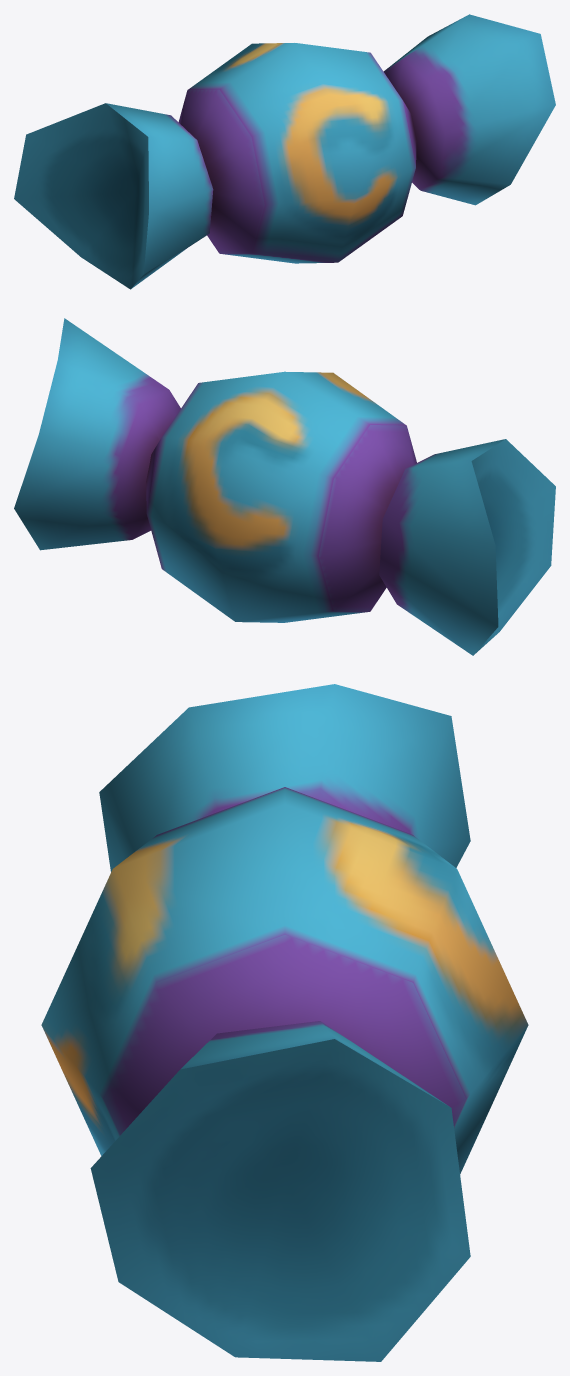
Rendered from candy02.fbx.
3 renders of one model, top to bottom at view 1: azimuth 30°, elevation 25°; view 2: azimuth 150°, elevation 25°; view 3: azimuth 270°, elevation 25°, orthographic. The views are drawn at different scales.
Parts seen in each view (by area): view 1: candy02; view 2: candy02; view 3: candy02.
Part boxes in pixels (x1,y1,x2,y2): candy02: (14,14,555,289); candy02: (14,318,555,655); candy02: (41,684,528,1361).
Bounding box in the file's own units: 31.38 × 14.57 × 14.57.
